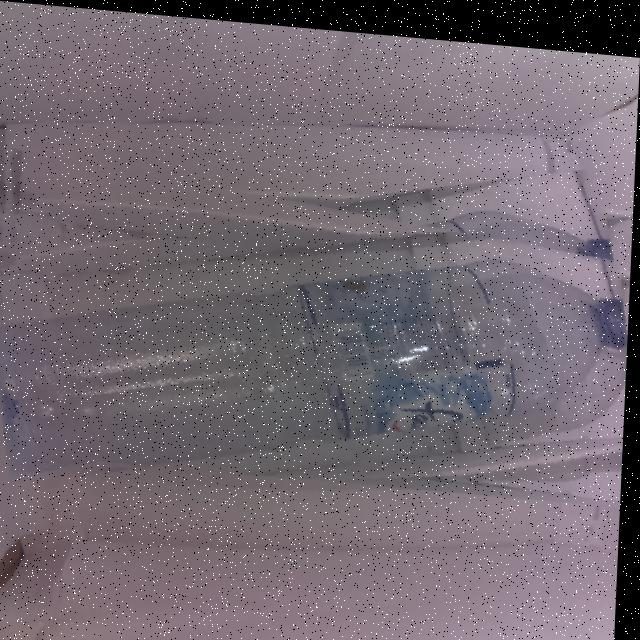plasticbottle: (0, 146, 635, 495)
